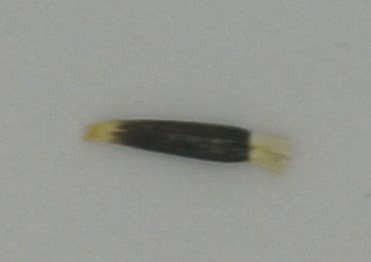เมล็ดดีติดกัน: (82, 116, 293, 179)
